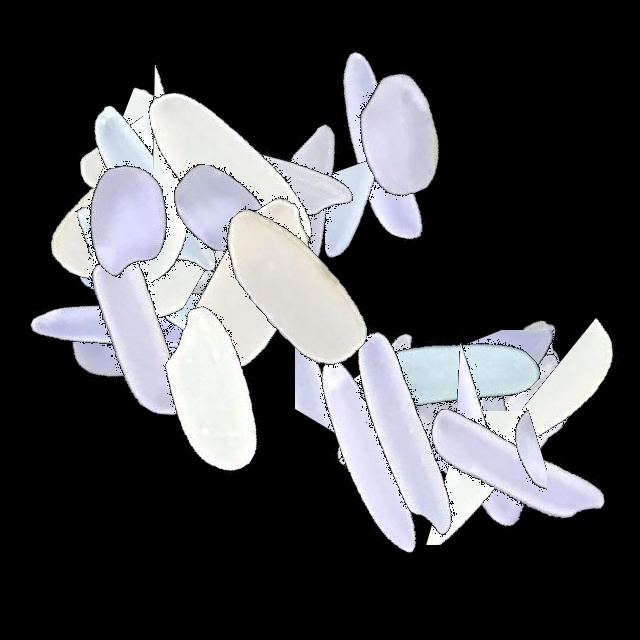Broken: (45, 116, 295, 283), (0, 95, 250, 256), (72, 93, 223, 343), (93, 83, 241, 333), (328, 358, 578, 504), (52, 205, 195, 455), (390, 330, 640, 473), (390, 411, 640, 545), (295, 248, 420, 498), (152, 47, 276, 297), (325, 93, 446, 343), (483, 279, 603, 529), (362, 312, 480, 562), (523, 303, 638, 553), (390, 313, 640, 427), (437, 354, 547, 604), (382, 271, 489, 521), (341, 289, 447, 539), (77, 89, 182, 339), (390, 301, 640, 385), (137, 439, 387, 516)
Full: (390, 261, 640, 511), (105, 113, 355, 363), (0, 213, 250, 463), (257, 276, 507, 526), (1, 158, 251, 408), (0, 203, 250, 453), (250, 23, 500, 273), (64, 62, 314, 312), (6, 79, 256, 329), (272, 9, 522, 259), (335, 307, 585, 557), (390, 292, 640, 542), (28, 145, 278, 395), (30, 135, 280, 385), (342, 317, 592, 567), (243, 331, 493, 581), (185, 74, 435, 324), (14, 201, 264, 451), (325, 258, 575, 508), (29, 63, 279, 313), (154, 54, 404, 304), (106, 45, 356, 295), (282, 308, 532, 558), (98, 84, 348, 334), (390, 335, 640, 585), (122, 166, 372, 416), (164, 162, 414, 412), (0, 94, 250, 344), (90, 266, 340, 516)
